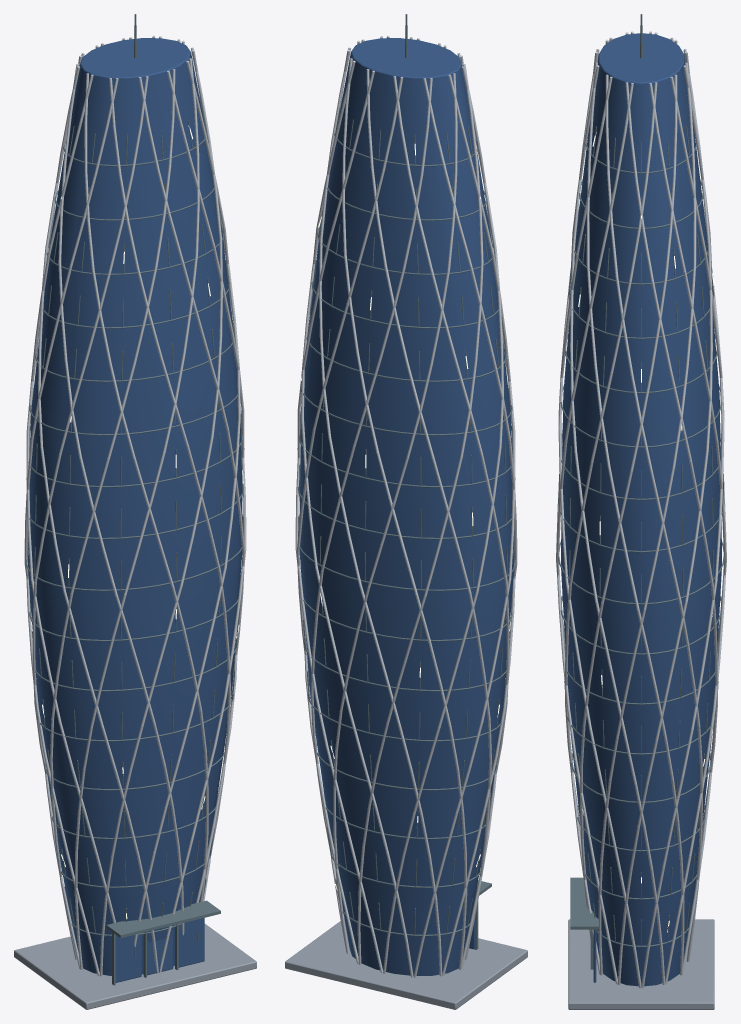
Rendered from cocoon.glb.
3 renders of one model, left to right at view 1: azimuth 30°, elevation 25°; view 2: azimuth 150°, elevation 25°; view 3: azimuth 270°, elevation 25°, orthographic.
Parts seen in each view (by area): view 1: Detail.cocoon.Glass, Detail.cocoon.Detail.Ivory, Detail.cocoon.Detail.Metal, Detail.cocoon.Detail.Stone, Detail.cocoon.Detail.Glass; view 2: Detail.cocoon.Glass, Detail.cocoon.Detail.Ivory, Detail.cocoon.Detail.Metal, Detail.cocoon.Detail.Stone; view 3: Detail.cocoon.Glass, Detail.cocoon.Detail.Ivory, Detail.cocoon.Detail.Metal, Detail.cocoon.Detail.Stone.
Part boxes in pixels (<box>): Detail.cocoon.Glass: <box>28,38,242,975</box>; Detail.cocoon.Detail.Ivory: <box>24,35,246,976</box>; Detail.cocoon.Detail.Metal: <box>25,14,243,985</box>; Detail.cocoon.Detail.Stone: <box>14,923,256,1009</box>; Detail.cocoon.Detail.Glass: <box>115,918,204,982</box>; Detail.cocoon.Glass: <box>299,38,513,975</box>; Detail.cocoon.Detail.Ivory: <box>295,35,517,977</box>; Detail.cocoon.Detail.Metal: <box>298,14,516,949</box>; Detail.cocoon.Detail.Stone: <box>285,918,527,1009</box>; Detail.cocoon.Glass: <box>561,33,721,986</box>; Detail.cocoon.Detail.Ivory: <box>556,31,726,988</box>; Detail.cocoon.Detail.Metal: <box>558,14,724,969</box>; Detail.cocoon.Detail.Stone: <box>568,919,714,1009</box>.
Size of the model in its own units: 10.46 by 46.11 by 7.48.
